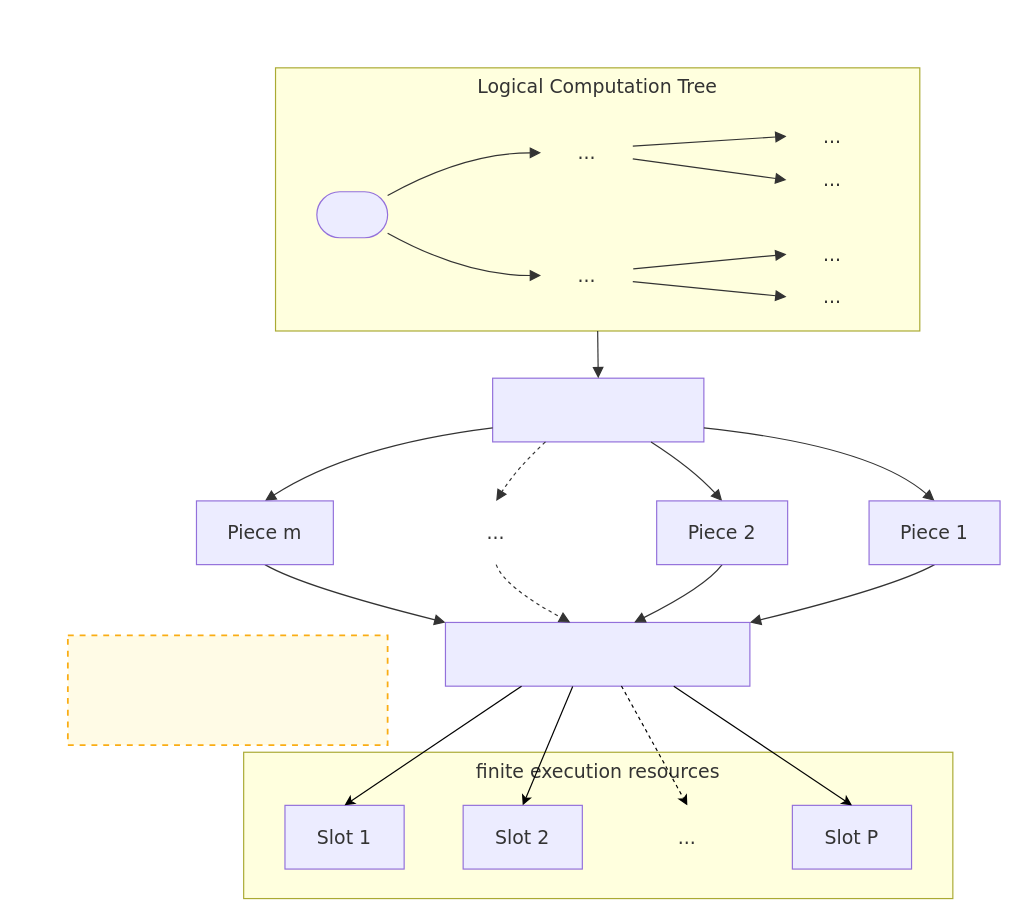
This 1021x919 diagram has some shape labels left out. Each missing label, with the centre of its shape:
"If m > P : Only a subset of pieces can be active simultaneously." goes at (227,690).
"Root" goes at (352,214).
"Scheduling / Mapping Layer" goes at (597,653).
"Tree Partitioning" goes at (597,409).
